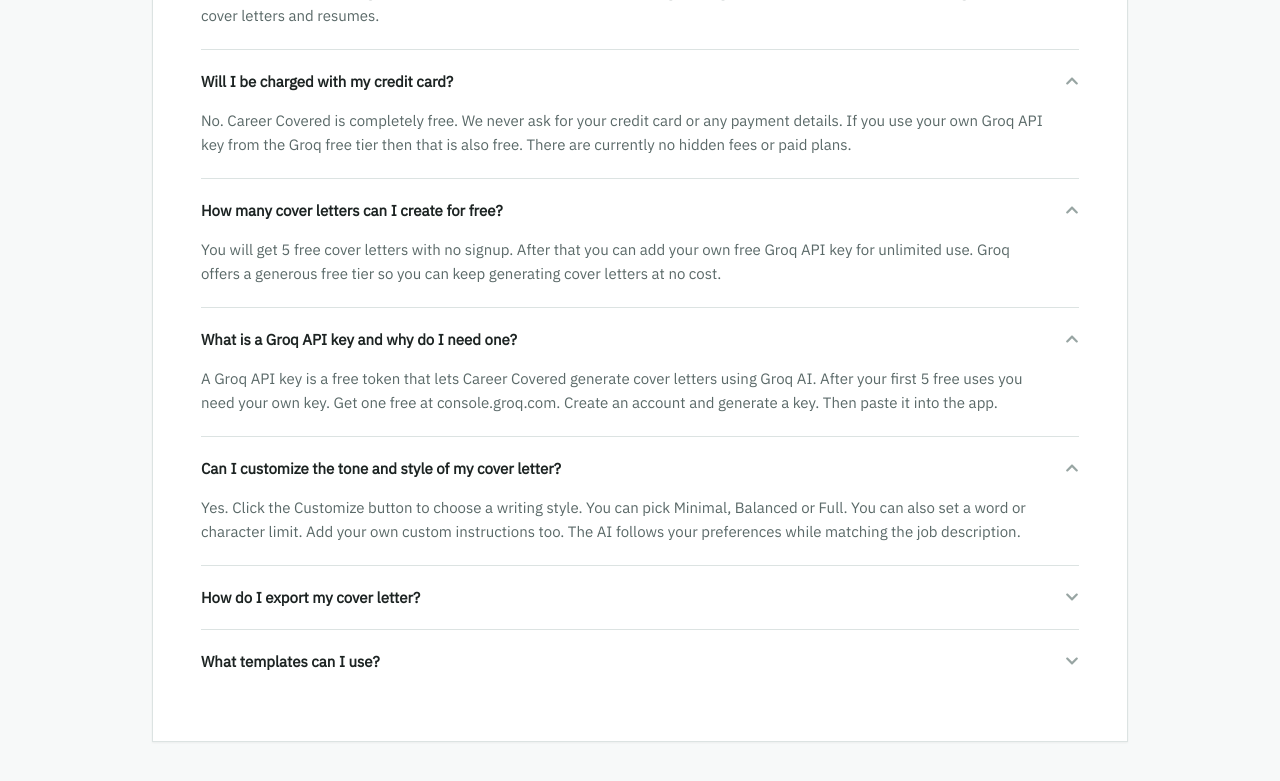
Test case: FaqView › toggles a question open when clicked
(page scrolled)
Click the button "How do I export my cover letter?" at coordinates (311, 597), box [201, 570, 1079, 625]
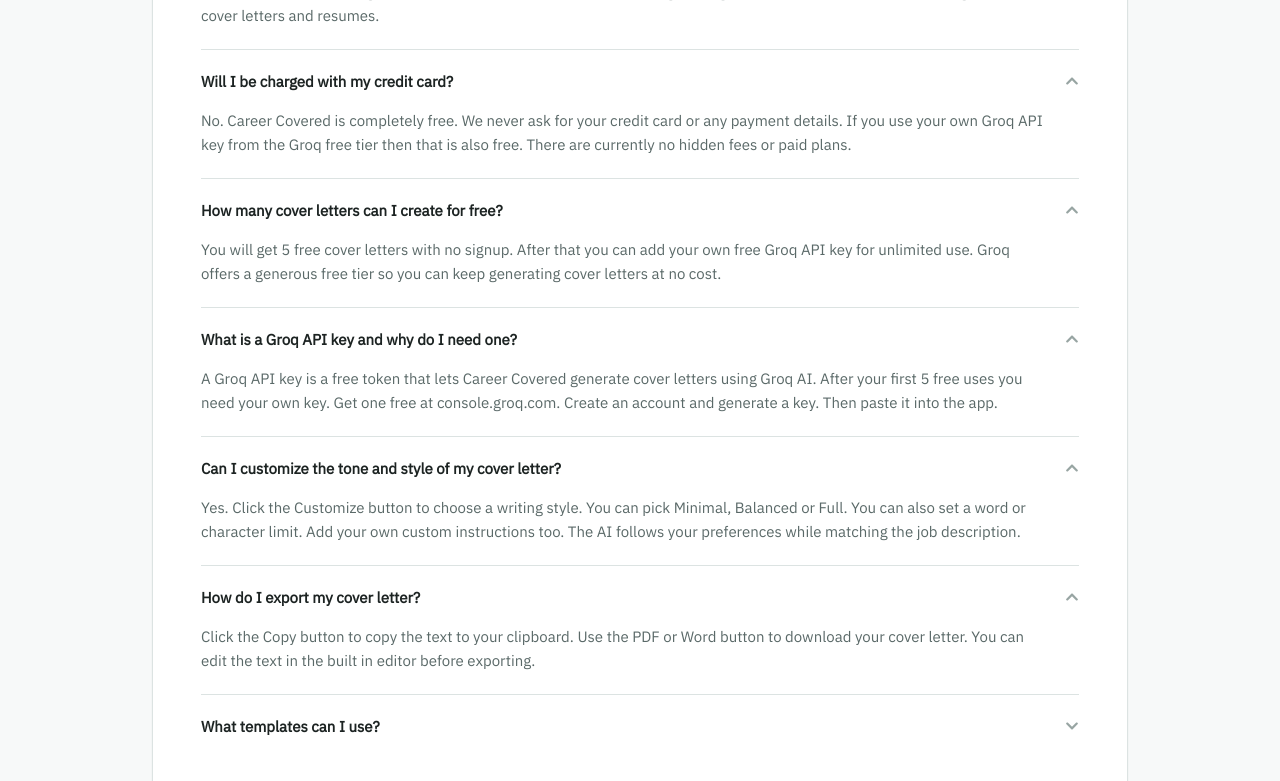
expect the text "Click the Copy button to copy the text" is shown: met, box [201, 627, 1024, 670]
expect the button "How do I export my cover letter?" is expanded: met, box [201, 570, 1079, 625]
